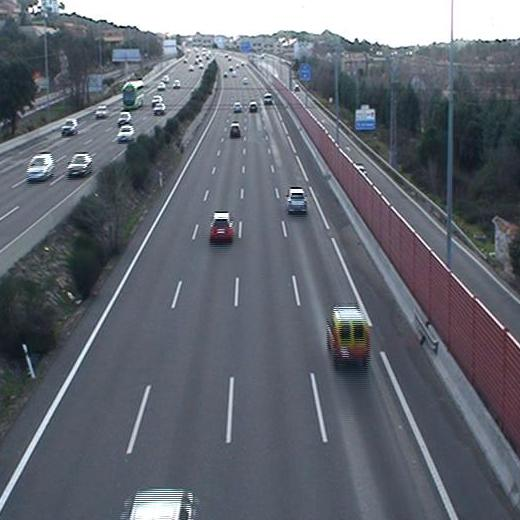car: (207, 209, 235, 245), (283, 185, 311, 217), (229, 121, 243, 140), (262, 92, 274, 106), (247, 101, 260, 113), (231, 101, 244, 113)
van: (324, 303, 373, 371)
